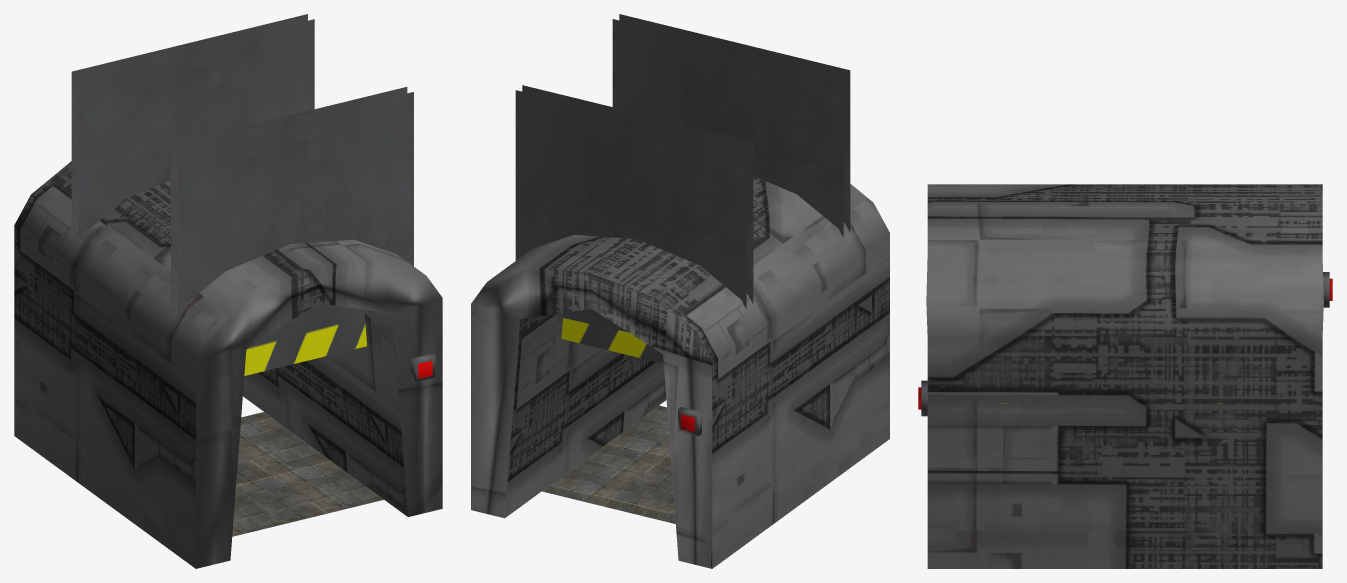
Rendered from Puerta.obj.
The picture shows the model from 3 angles, left to right: view 1: azimuth 30°, elevation 25°; view 2: azimuth 150°, elevation 25°; view 3: azimuth 270°, elevation 25°; orthographic projection. The views are drawn at different scales.
Parts seen in each view (by area): view 1: pCube28 Puerta4, Puerta4 pCube29, Puerta4 pPlane19, Puerta4 pCube35; view 2: pCube28 Puerta4, Puerta4 pCube29, Puerta4 pPlane19, Puerta4 pCube39; view 3: pCube28 Puerta4.
Boxes of the visible parts, <box> form: pCube28 Puerta4: <box>14,161,442,568</box>; Puerta4 pCube29: <box>71,14,413,375</box>; Puerta4 pPlane19: <box>232,412,383,536</box>; Puerta4 pCube35: <box>411,353,435,382</box>; pCube28 Puerta4: <box>471,176,889,568</box>; Puerta4 pCube29: <box>515,14,850,363</box>; Puerta4 pPlane19: <box>542,405,675,523</box>; Puerta4 pCube39: <box>678,407,701,436</box>; pCube28 Puerta4: <box>926,184,1323,568</box>.
Bounding box in the file's own units: 213 × 326 × 284.
